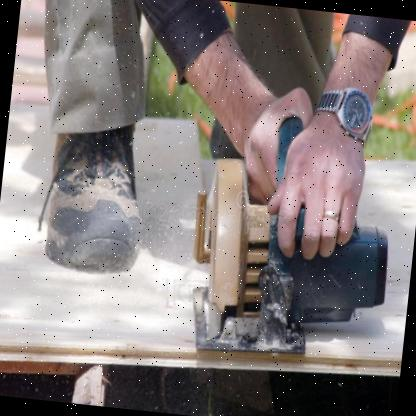bota: (40, 117, 156, 280)
